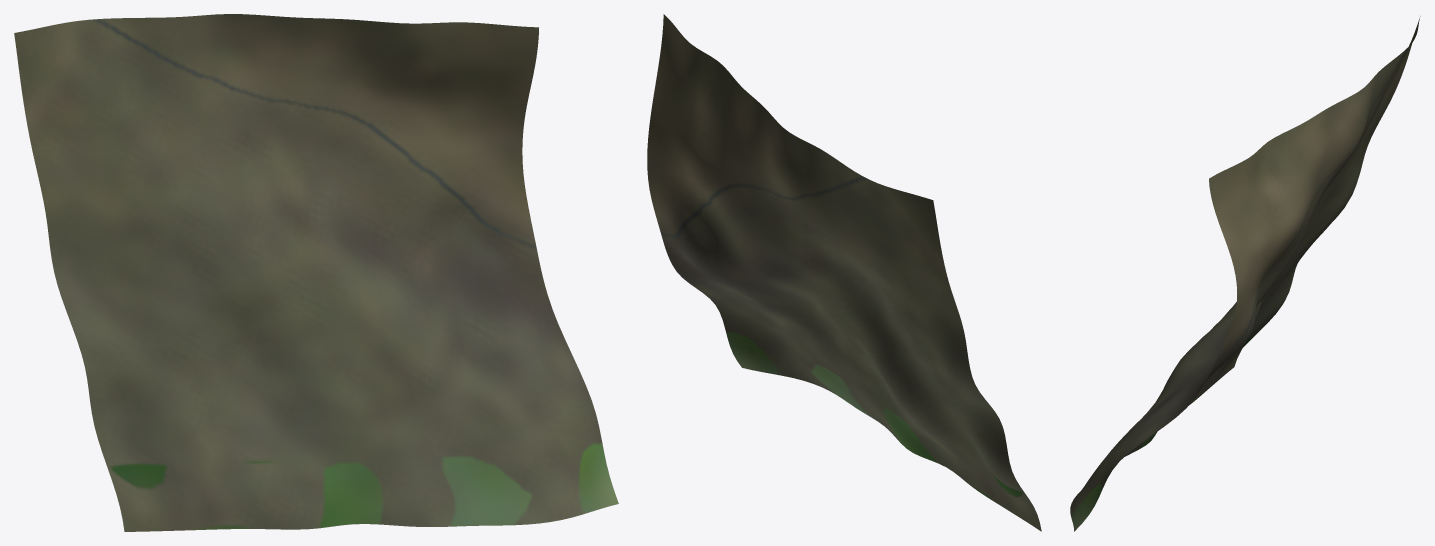
The model's file is ground_mid_05_00.obj.
The picture shows the model from 3 angles, left to right: view 1: azimuth 30°, elevation 25°; view 2: azimuth 150°, elevation 25°; view 3: azimuth 270°, elevation 25°; orthographic projection. The views are drawn at different scales.
Parts seen in each view (by area): view 1: ground_mid_05_00; view 2: ground_mid_05_00; view 3: ground_mid_05_00.
Boxes of the visible parts, bbox=[...] form: ground_mid_05_00: bbox=[14, 14, 618, 531]; ground_mid_05_00: bbox=[647, 14, 1041, 531]; ground_mid_05_00: bbox=[1070, 16, 1420, 531].
Size of the model in its own units: 200 by 200 by 180.
1 material, 1 textured.
